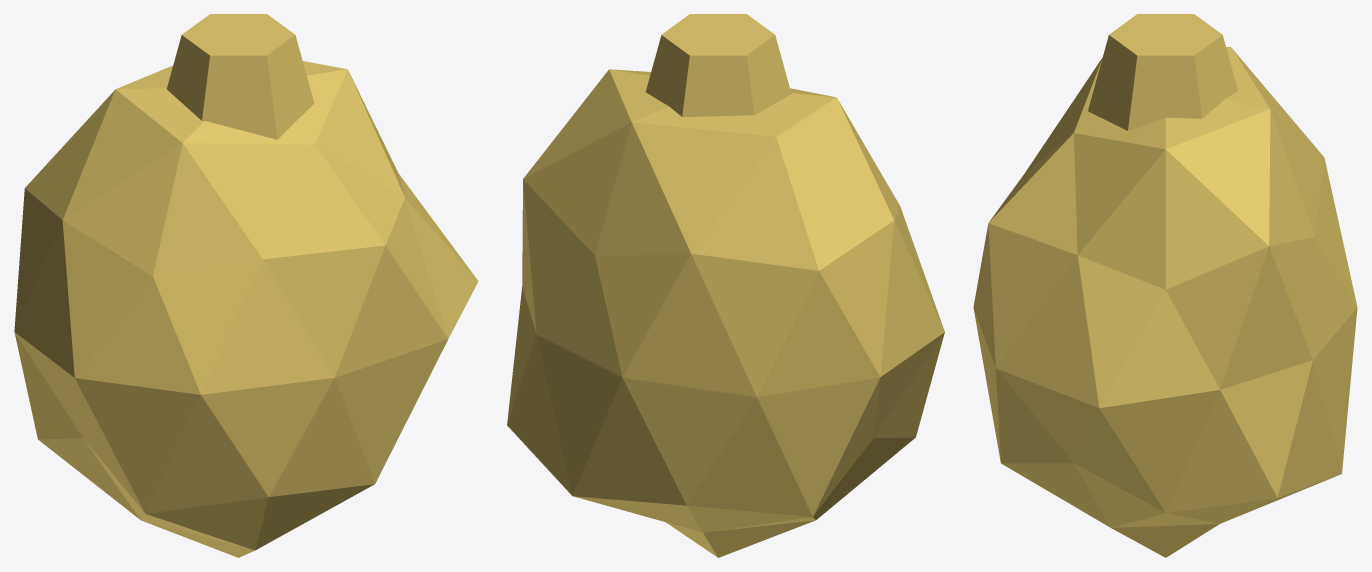
The model's file is sack_1.glb.
3 renders of one model, left to right at view 1: azimuth 30°, elevation 25°; view 2: azimuth 150°, elevation 25°; view 3: azimuth 270°, elevation 25°, orthographic.
Parts seen in each view (by area): view 1: sack_1; view 2: sack_1; view 3: sack_1.
Boxes of the visible parts, bbox=[...] form: sack_1: bbox=[14, 14, 478, 557]; sack_1: bbox=[507, 14, 944, 557]; sack_1: bbox=[973, 14, 1357, 557].
Size of what is drawn, in the model's own units: 0.5709 by 0.71 by 0.4725.
